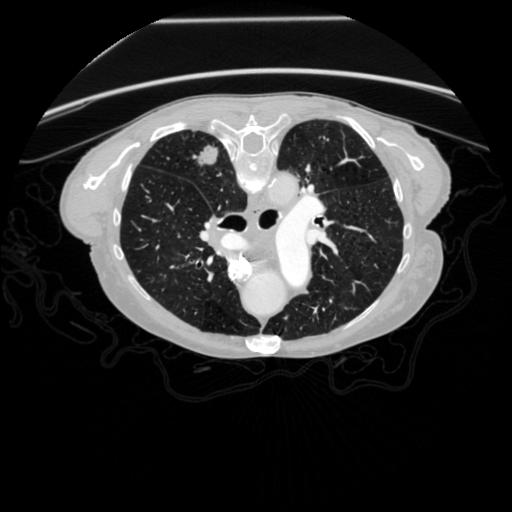nodule: (195, 145, 221, 171)
